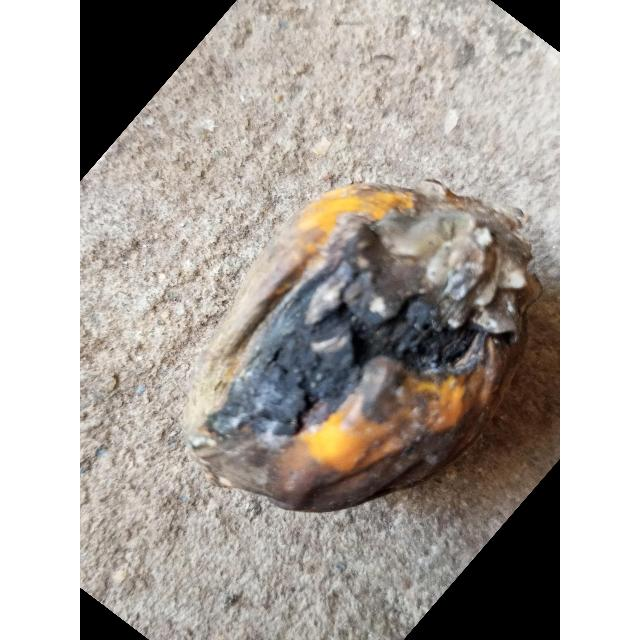damaged: (182, 182, 543, 516)
